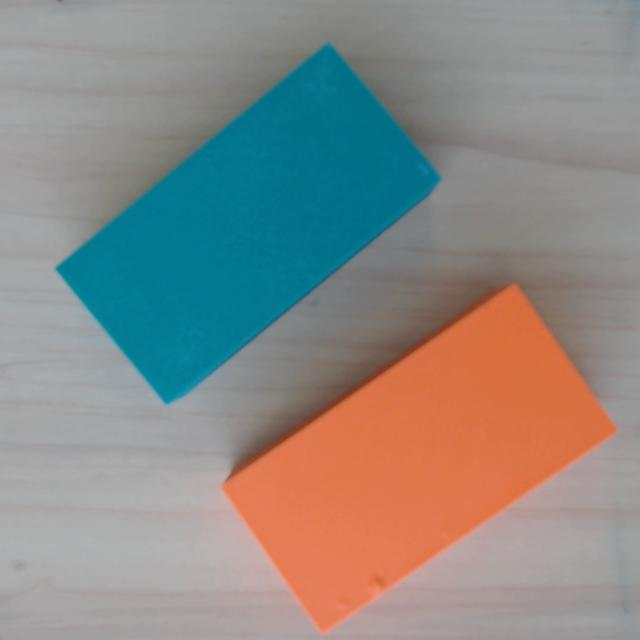Balok-Hijau-1005025: (53, 41, 445, 408)
Balok-Jingga-1005025: (216, 278, 619, 635)
